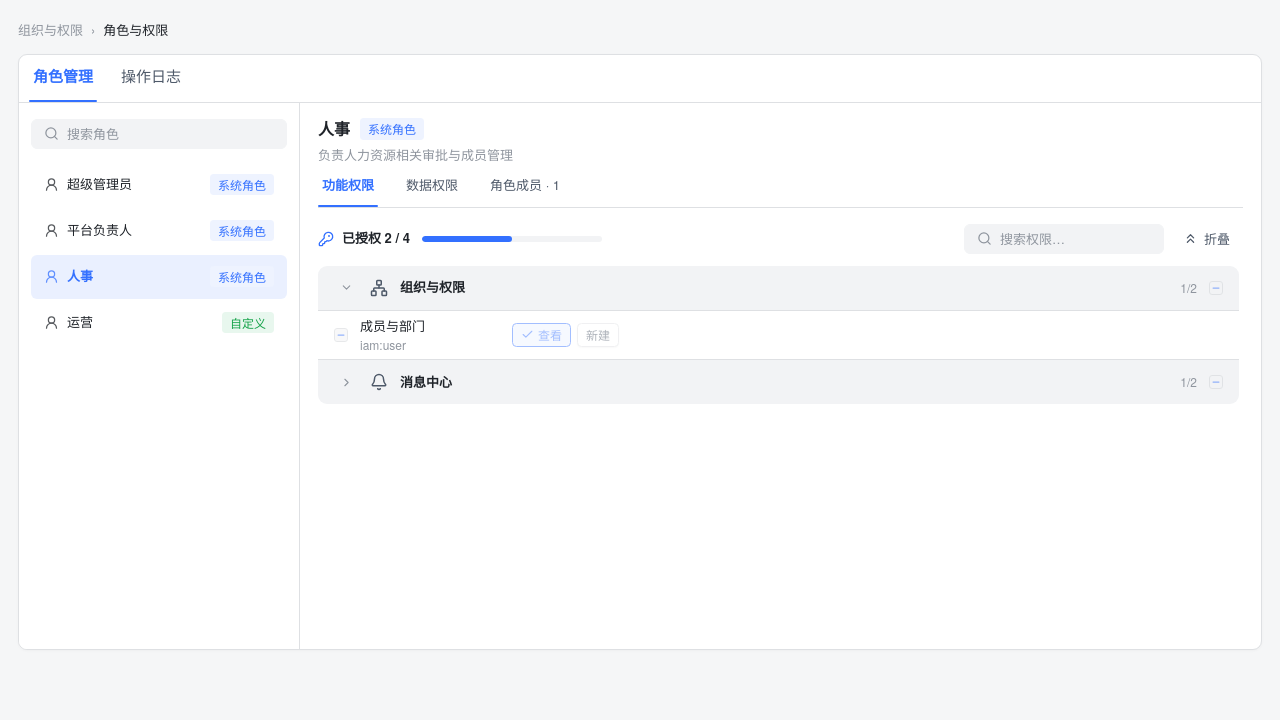
Test: 角色成员保持原有展示
Step 1. Click the tab "角色成员 · 1" → (525, 191), box [486, 176, 564, 207]
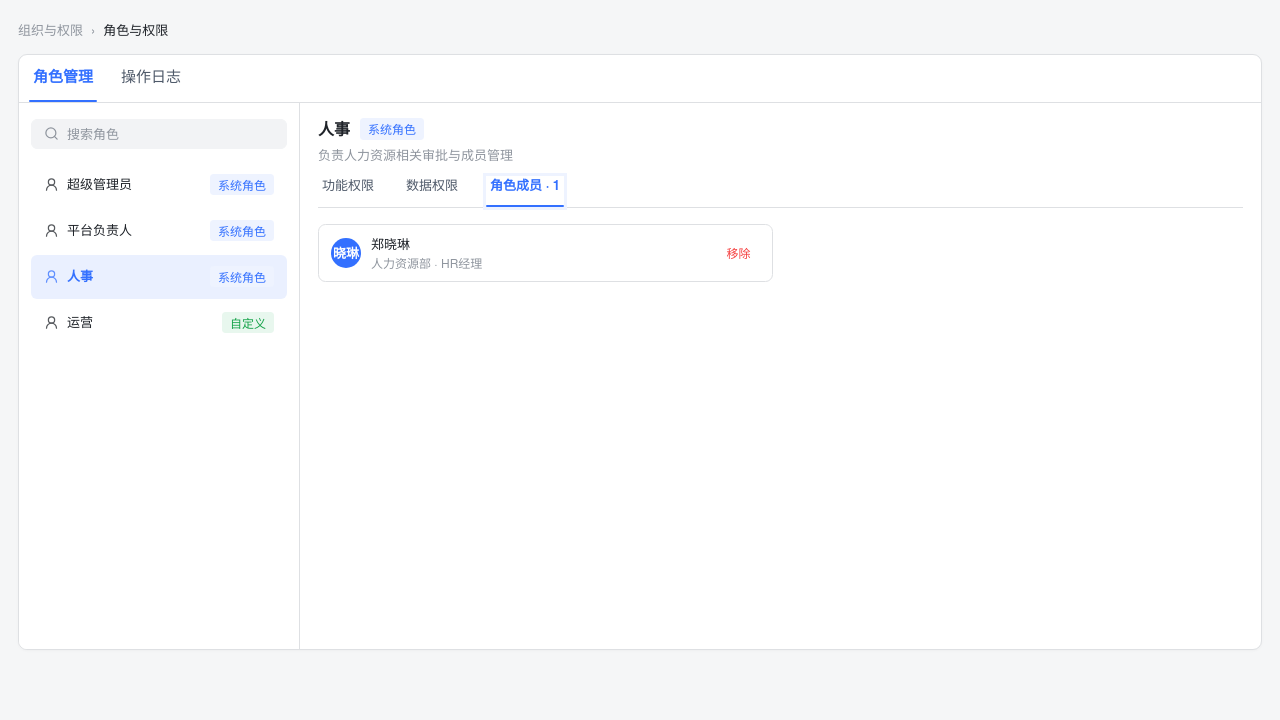
Expected: the text "郑晓琳" is shown, [371, 234, 410, 253]
Expected: the text "人力资源部 · HR经理" is shown, [371, 254, 482, 271]
